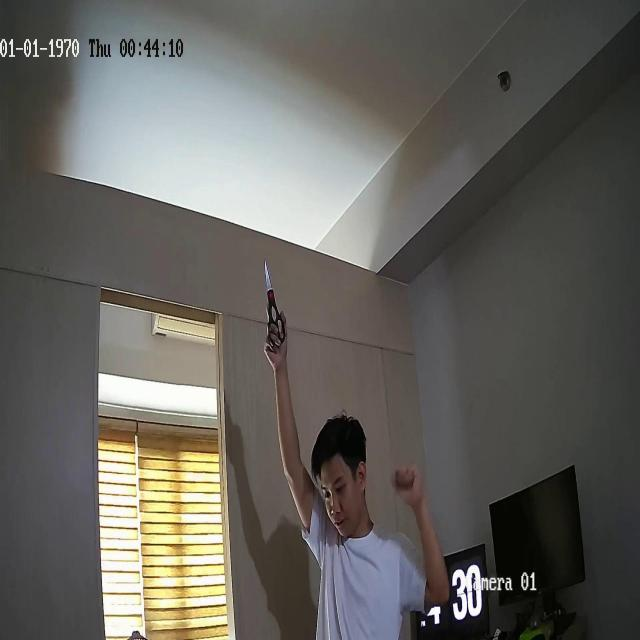scissor: (264, 259, 286, 346)
